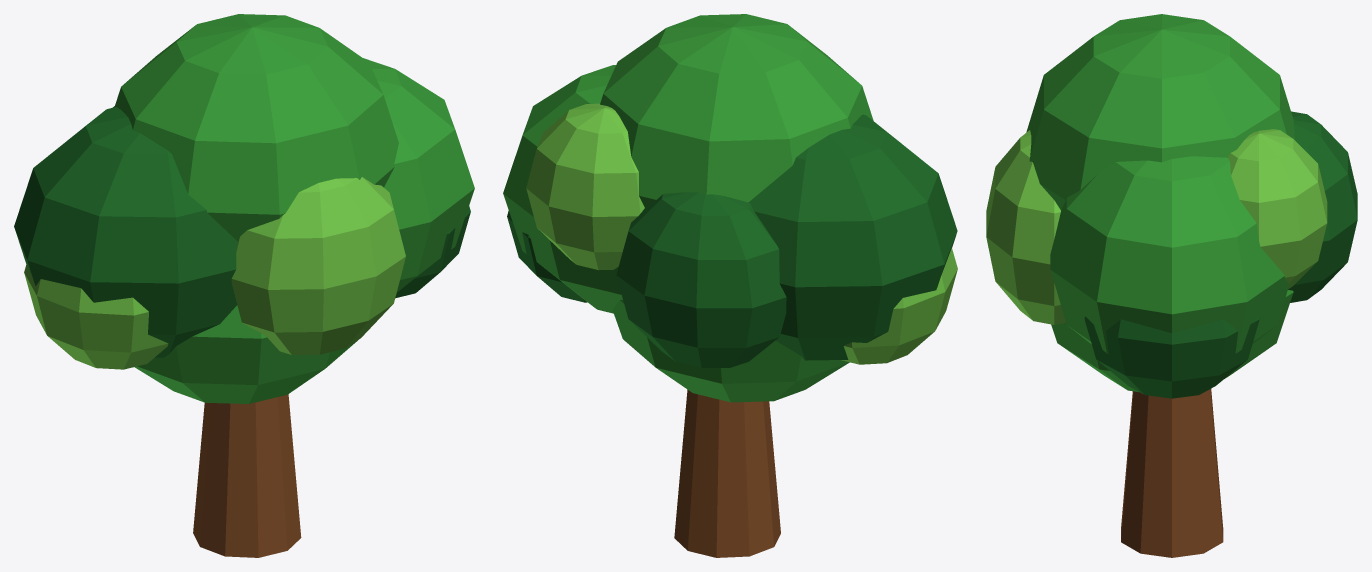
The model's file is ForestTree.obj.
3 views of the same model, side by side, from view 1: azimuth 30°, elevation 25°; view 2: azimuth 150°, elevation 25°; view 3: azimuth 270°, elevation 25° (orthographic).
Visible parts, largest first — view 1: ForestTree; view 2: ForestTree; view 3: ForestTree.
Part boxes in pixels (x1,y1,x2,y2): ForestTree: (14,14,474,557); ForestTree: (503,14,957,557); ForestTree: (986,14,1357,557).
Size of the model in its own units: 0.97 by 1.09 by 0.7258.
Materials: 5 (5 with a texture image).
